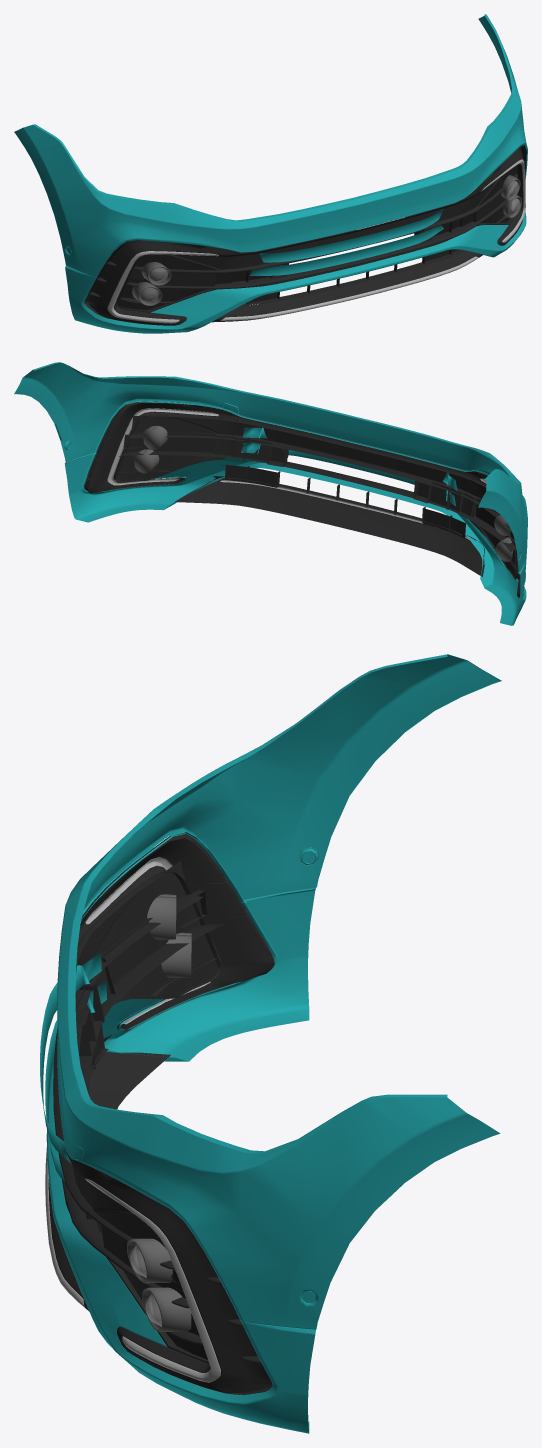
The picture shows the model from 3 angles, top to bottom: view 1: azimuth 30°, elevation 25°; view 2: azimuth 150°, elevation 25°; view 3: azimuth 270°, elevation 25°; orthographic projection. The views are drawn at different scales.
Visible parts, largest first — view 1: front bumper 4; view 2: front bumper 4; view 3: front bumper 4.
Boxes of the visible parts, left/top/right/bottom form: front bumper 4: left=14, top=14, right=527, bottom=333; front bumper 4: left=14, top=362, right=527, bottom=625; front bumper 4: left=40, top=654, right=501, bottom=1433.
Size of the model in its own units: 1.89 by 0.6723 by 0.8153.
